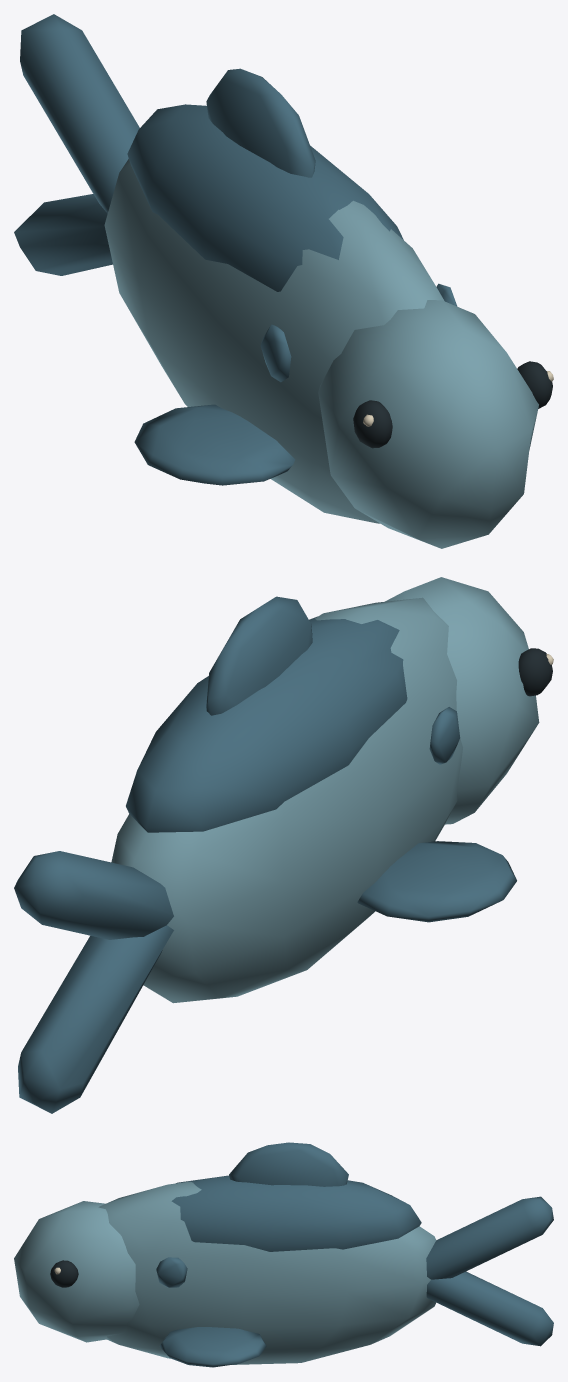
The model's file is org_menhaden.glb.
3 renders of one model, top to bottom at view 1: azimuth 30°, elevation 25°; view 2: azimuth 150°, elevation 25°; view 3: azimuth 270°, elevation 25°, orthographic. The views are drawn at different scales.
Visible parts, largest first — view 1: Body, Head, Tail, Fin_R, Eye_R, Eye_L; view 2: Body, Tail, Head, Fin_R, Eye_R; view 3: Body, Head, Tail, Fin_L, Eye_L.
Boxes of the visible parts, bbox=[...] form: Body: bbox=[104, 68, 457, 523]; Head: bbox=[318, 300, 538, 548]; Tail: bbox=[14, 14, 139, 275]; Fin_R: bbox=[134, 404, 295, 485]; Eye_R: bbox=[353, 400, 392, 448]; Eye_L: bbox=[517, 361, 553, 408]; Body: bbox=[111, 596, 462, 1003]; Tail: bbox=[14, 851, 173, 1113]; Head: bbox=[385, 577, 539, 824]; Fin_R: bbox=[357, 841, 516, 922]; Eye_R: bbox=[518, 648, 553, 696]; Body: bbox=[98, 1142, 436, 1364]; Head: bbox=[14, 1201, 139, 1342]; Tail: bbox=[426, 1196, 553, 1346]; Fin_L: bbox=[159, 1327, 266, 1367]; Eye_L: bbox=[50, 1260, 78, 1287].
Size of the model in its own units: 0.4933 by 0.5 by 1.11.
